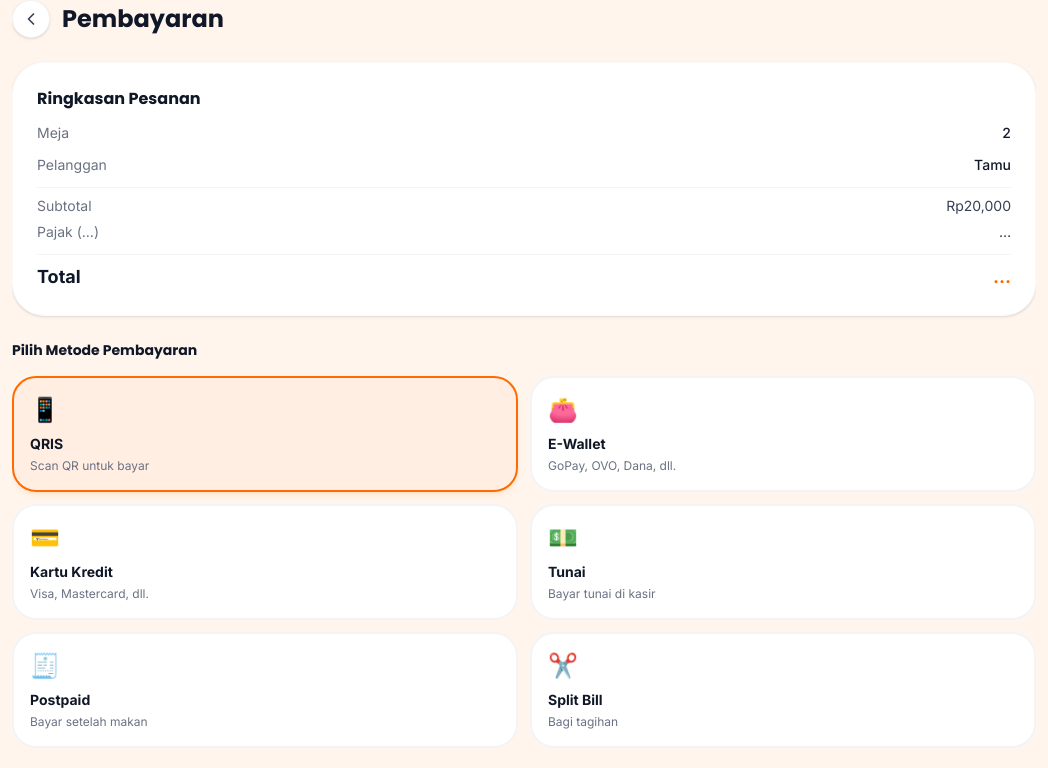
it: PaymentPage — split-bill tax readiness (DR-17 F1) › withholds the per-person amount while the quote is loading
Click the button "✂️ Split Bill Bagi tagihan".
click(575, 700)  # box [530,632,1036,748]
(page scrolled)
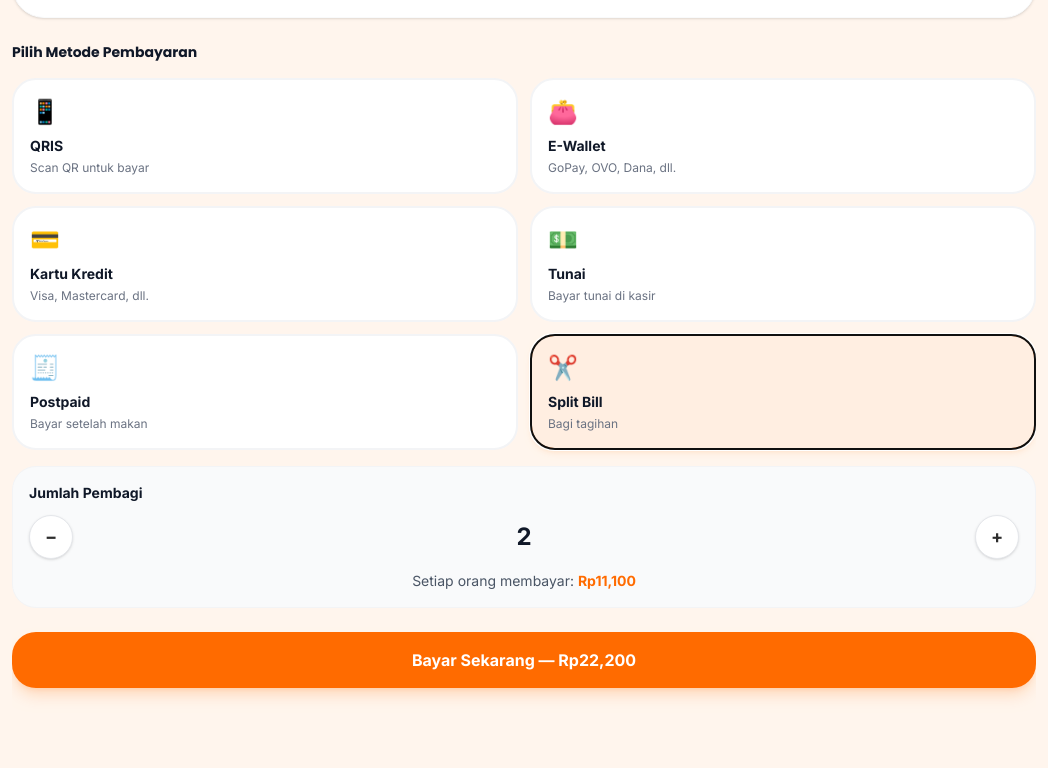
Expected: the text "Rp11,100" is shown, [578,572,636,589]
